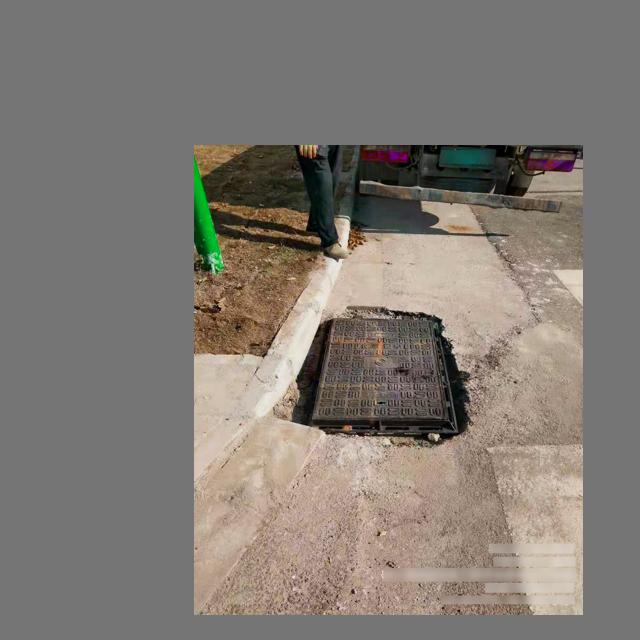circle: (289, 311, 470, 443)
